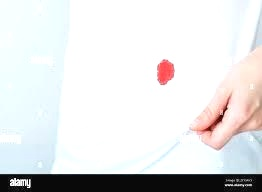blood: (156, 58, 175, 86)
